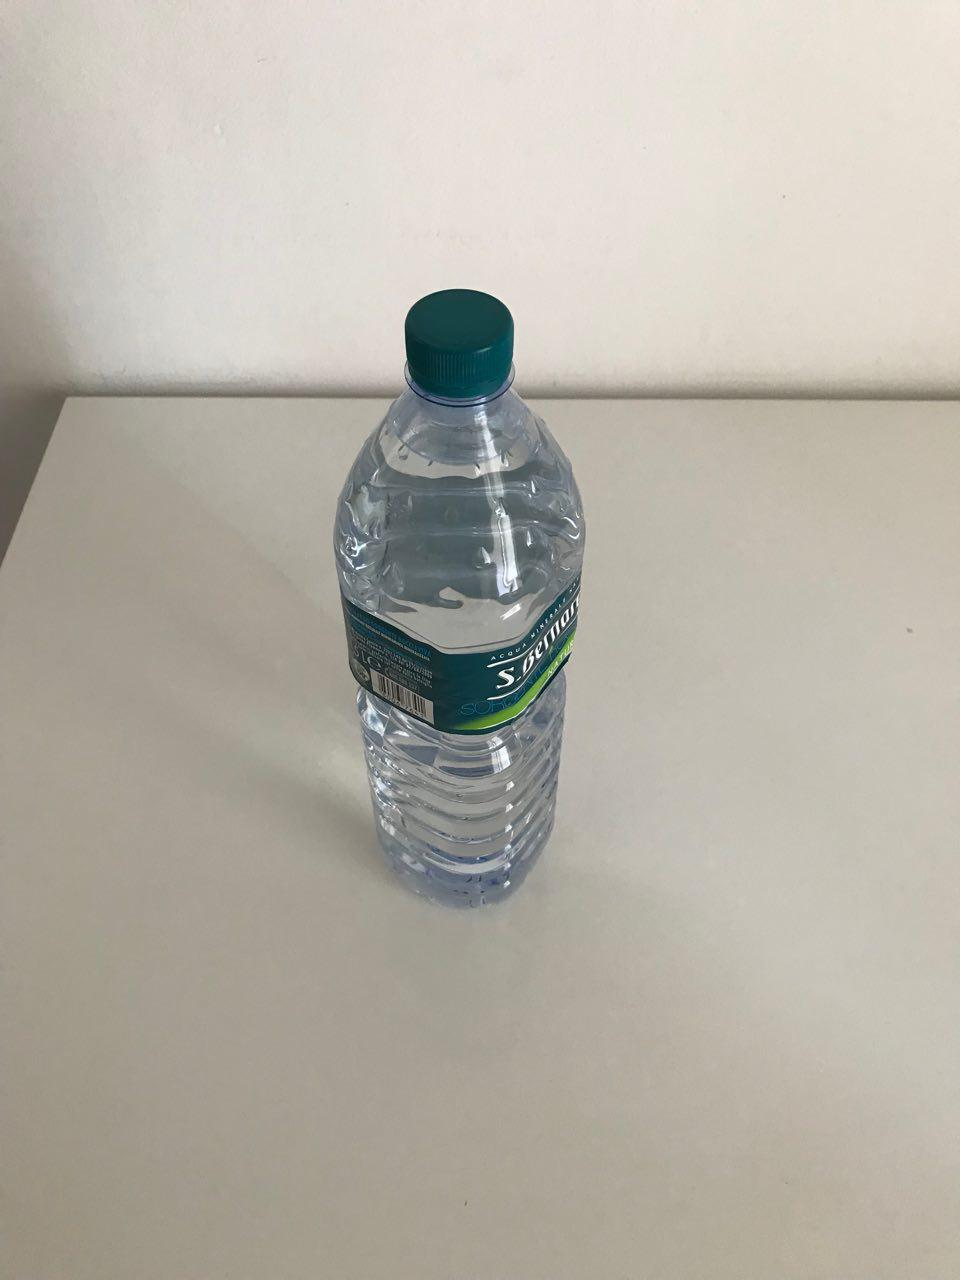san_bernardo: (331, 286, 587, 917)
